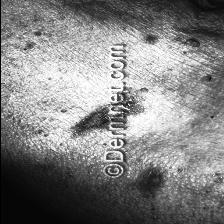Unclassified: (74, 92, 142, 132), (125, 160, 168, 196), (142, 30, 166, 46)
